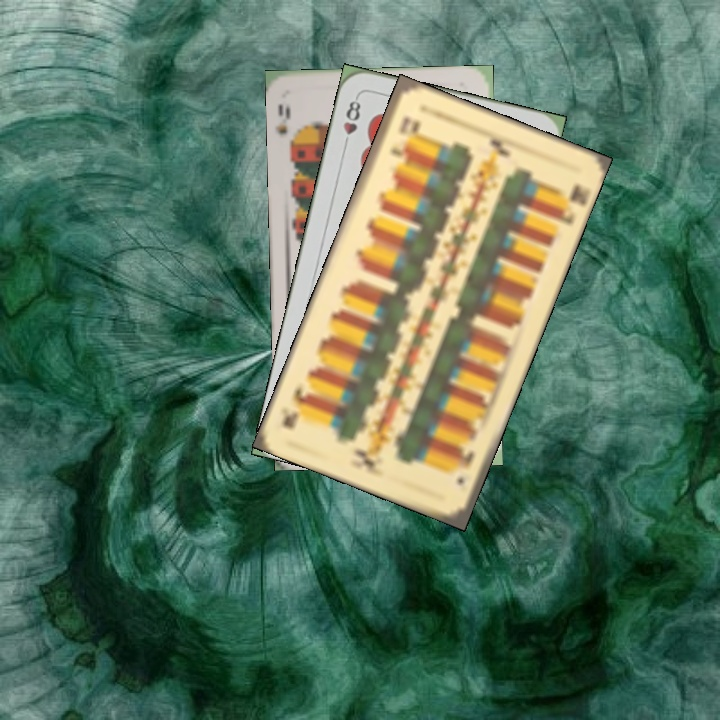E10: (387, 112, 418, 159), (452, 443, 477, 488)
H8: (339, 93, 364, 151)
S9: (273, 100, 300, 154)
